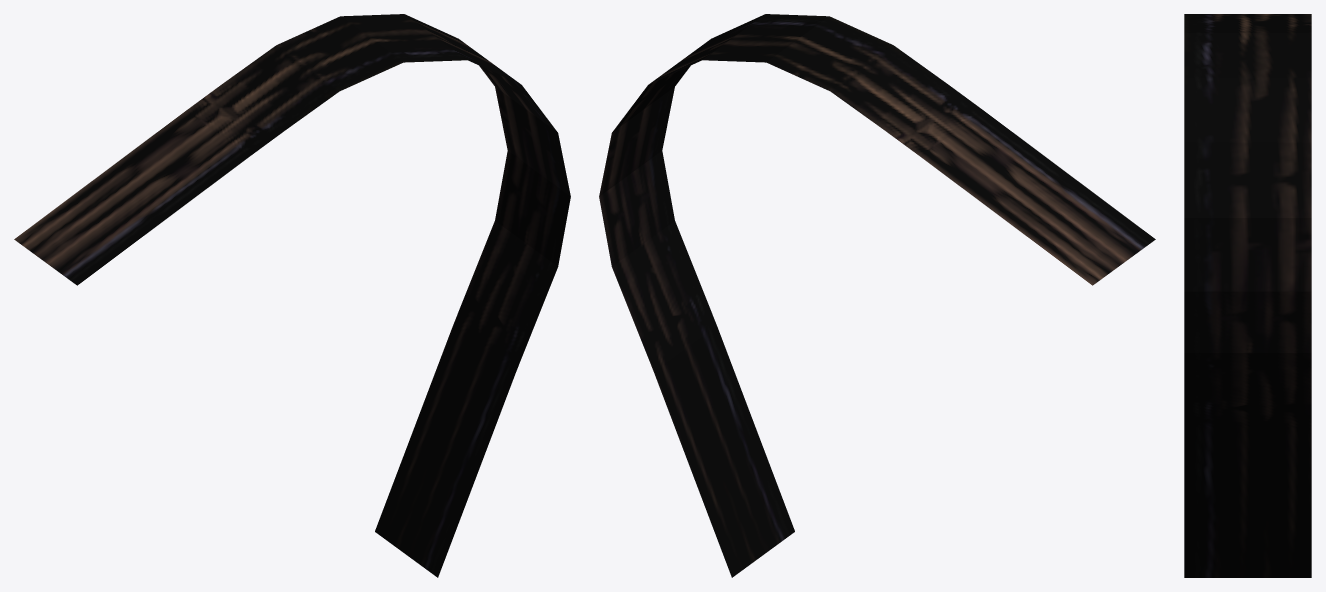
File: collide_ColumnCorner0.obj
The picture shows the model from 3 angles, left to right: view 1: azimuth 30°, elevation 25°; view 2: azimuth 150°, elevation 25°; view 3: azimuth 270°, elevation 25°; orthographic projection.
Parts seen in each view (by area): view 1: collide_ColumnCorner0; view 2: collide_ColumnCorner0; view 3: collide_ColumnCorner0.
Part boxes in pixels (left/top/right/bottom): collide_ColumnCorner0: left=14, top=14, right=570, bottom=577; collide_ColumnCorner0: left=599, top=14, right=1155, bottom=577; collide_ColumnCorner0: left=1184, top=14, right=1311, bottom=577.
Bounding box in the file's own units: 201 × 204 × 44.53.
